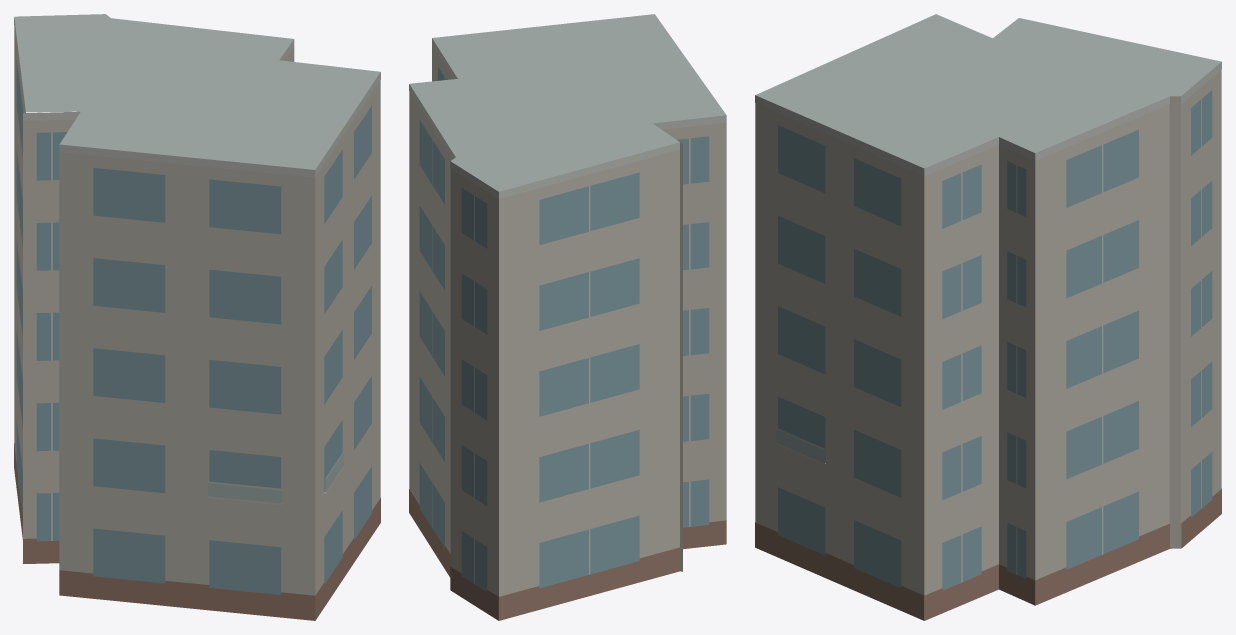
Rendered from survey-upis-32731351.glb.
3 renders of one model, left to right at view 1: azimuth 30°, elevation 25°; view 2: azimuth 150°, elevation 25°; view 3: azimuth 270°, elevation 25°, orthographic. The views are drawn at different scales.
Visible parts, largest first — view 1: survey-upis-32731351.tmp; view 2: survey-upis-32731351.tmp; view 3: survey-upis-32731351.tmp.
Boxes of the visible parts, box(x1,y1,x2,y2) form: survey-upis-32731351.tmp: box(14, 14, 380, 620); survey-upis-32731351.tmp: box(409, 14, 726, 620); survey-upis-32731351.tmp: box(755, 14, 1221, 620).
Bounding box in the file's own units: 10.48 × 14.3 × 13.37.
